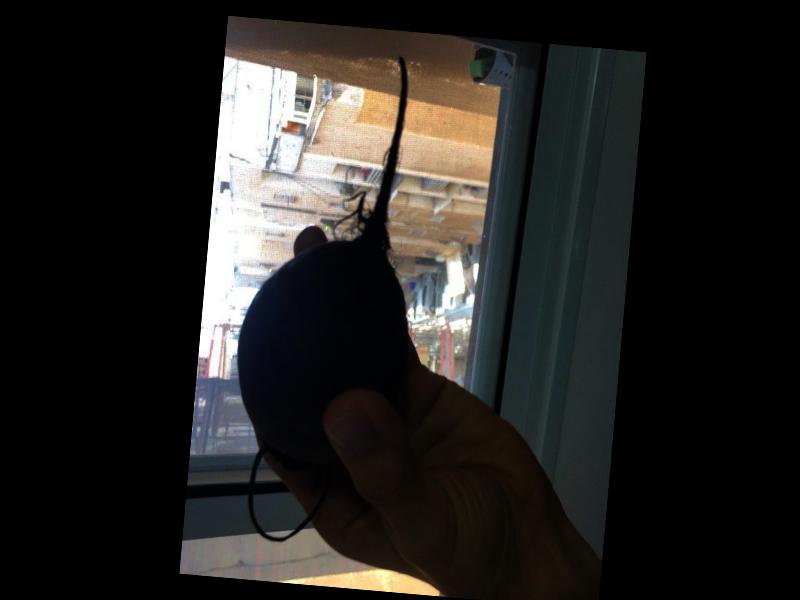Beet: (221, 43, 433, 549)
